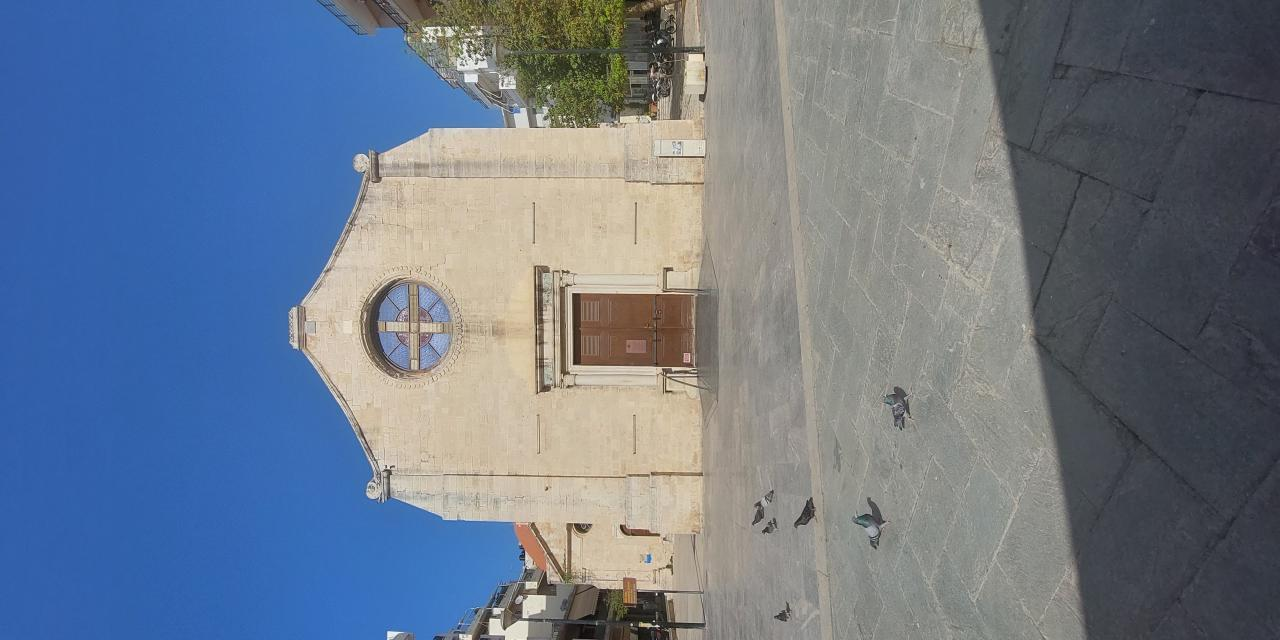Agia Aikaterini: (114, 304, 468, 640)
